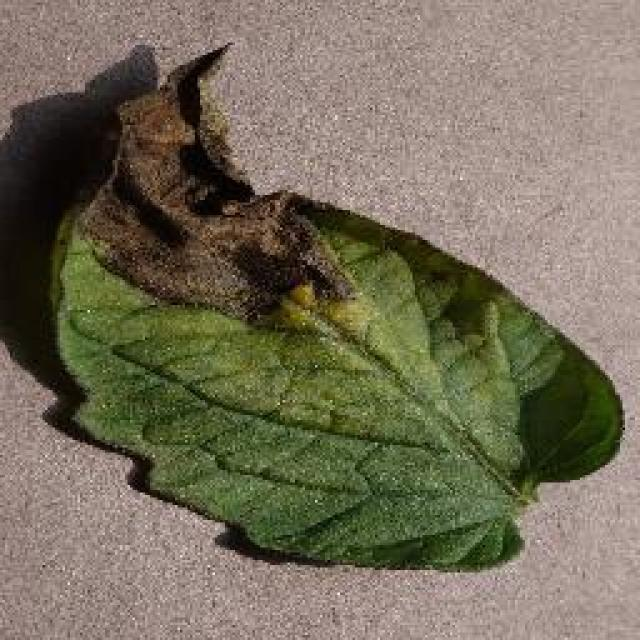Tomato Late Blight: (117, 111, 343, 306)
